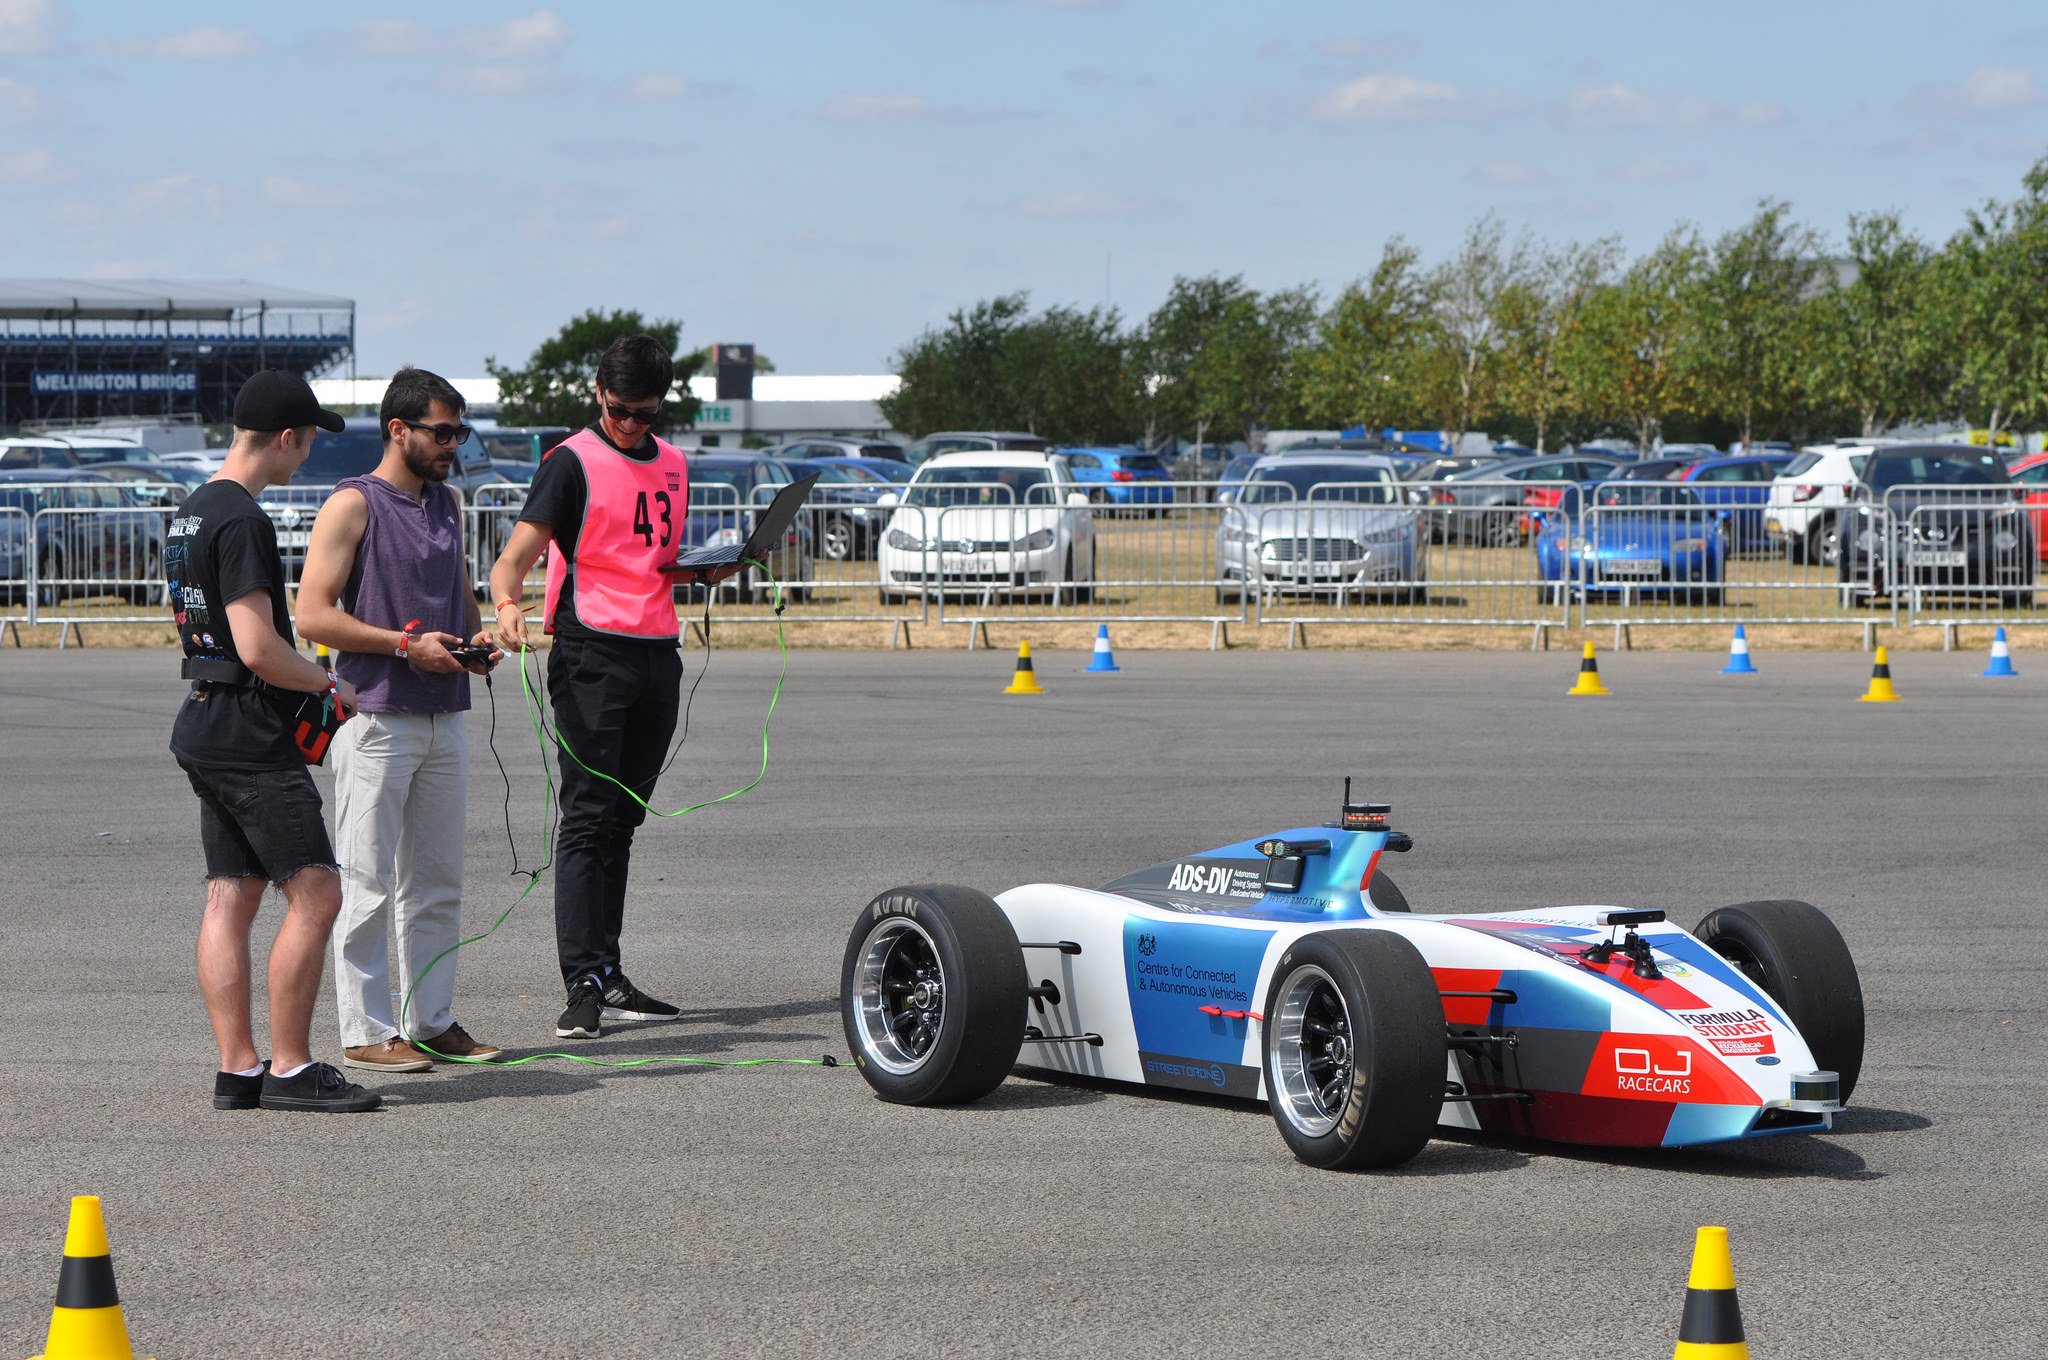cone: (17, 1160, 168, 1360), (1629, 1210, 1795, 1360), (1553, 628, 1619, 710), (1849, 637, 1902, 706), (1068, 621, 1130, 678), (995, 633, 1048, 698), (1972, 618, 2025, 683), (1710, 615, 1764, 671)
